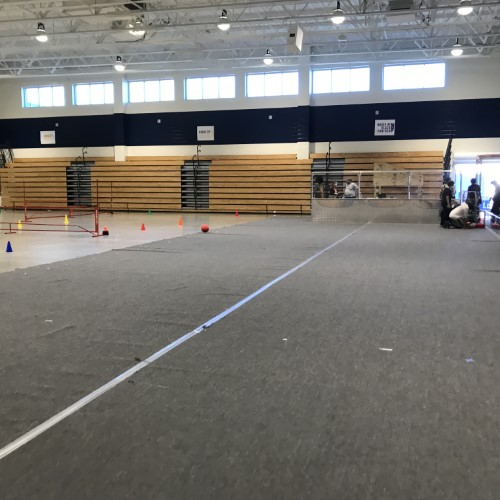red: (200, 223, 209, 234)
